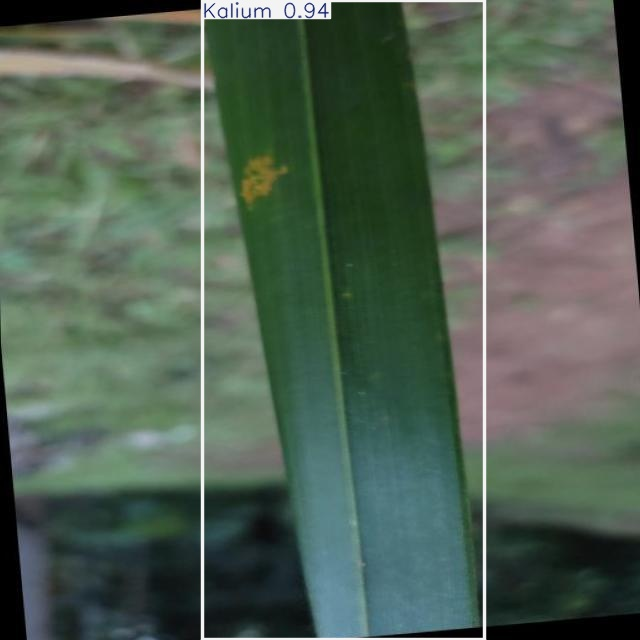Kalium: (202, 1, 484, 640)
